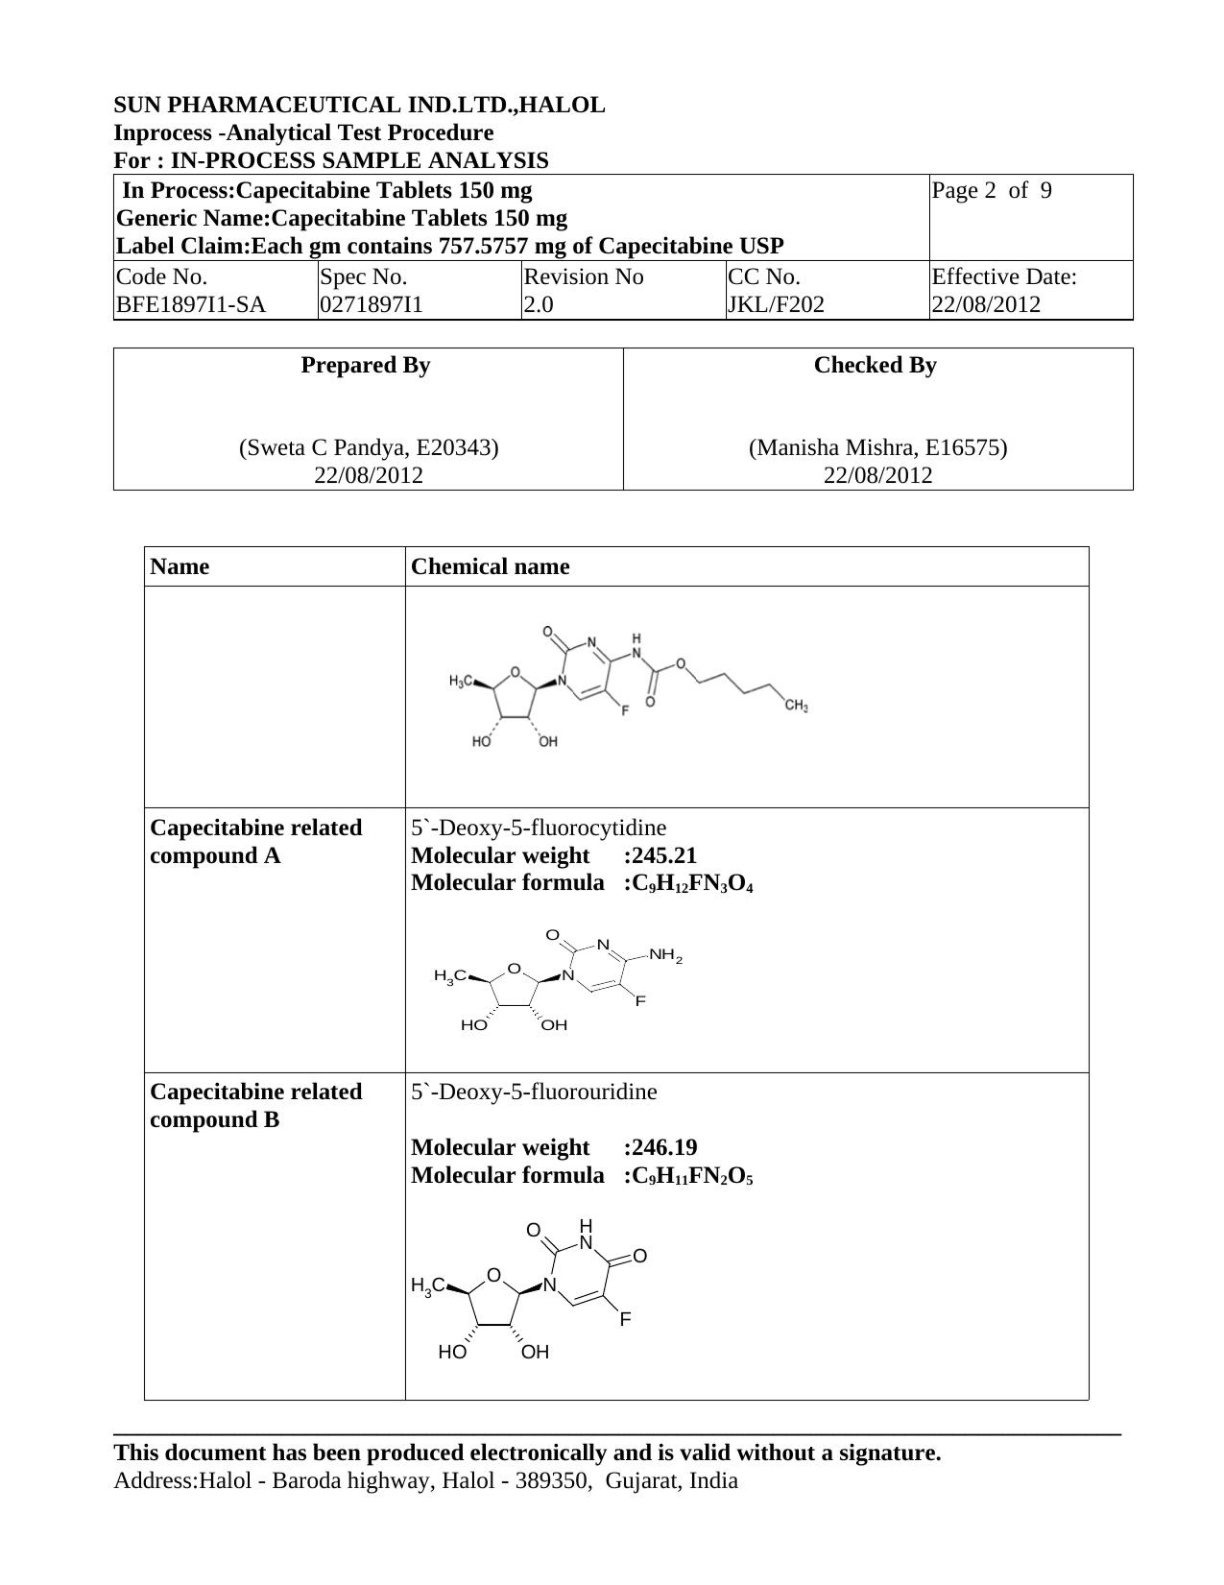full_lined: (143, 544, 1092, 1402)
merged_cells: (112, 174, 1135, 321)
partial_lined: (113, 346, 1135, 491)
